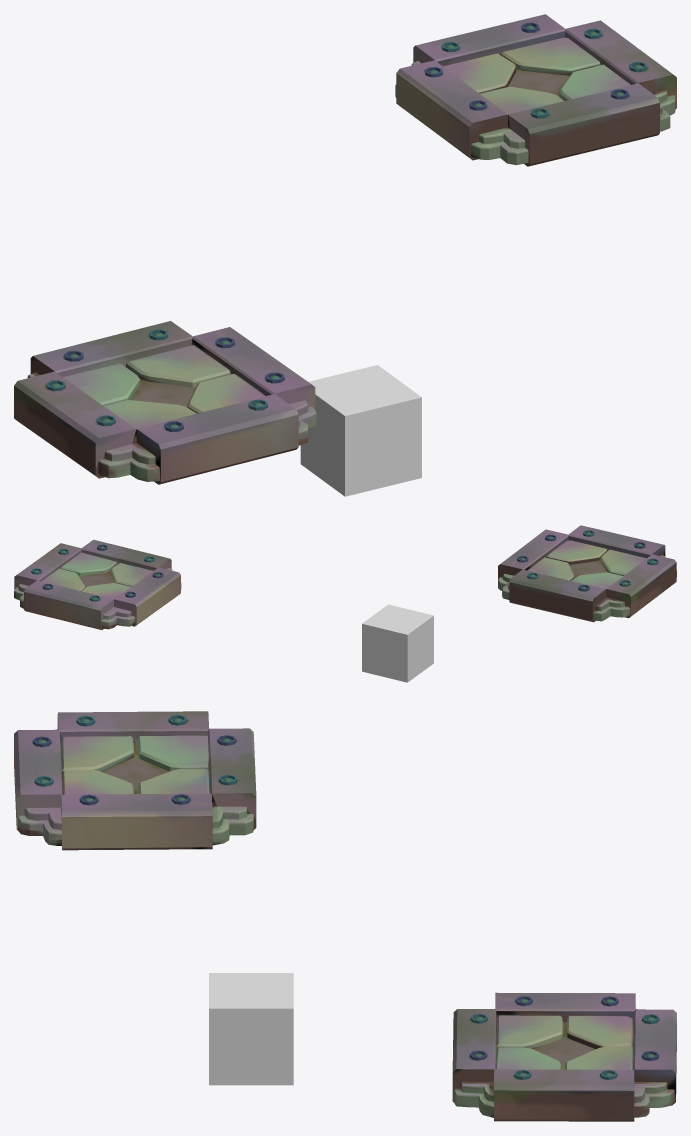
The model's file is battlescence-4-floor006.fbx.
3 views of the same model, one above another, from view 1: azimuth 30°, elevation 25°; view 2: azimuth 150°, elevation 25°; view 3: azimuth 270°, elevation 25° (orthographic). The views are drawn at different scales.
Parts seen in each view (by area): view 1: Circle.006, Circle.005, battlescence-4-floor006; view 2: Circle.006, Circle.005, battlescence-4-floor006; view 3: Circle.006, Circle.005, battlescence-4-floor006.
Part boxes in pixels (box(x1,y1,x2,y2)): Circle.006: box(14, 321, 316, 484); Circle.005: box(395, 14, 676, 166); battlescence-4-floor006: box(300, 365, 421, 496); Circle.006: box(498, 525, 676, 622); Circle.005: box(14, 539, 181, 629); battlescence-4-floor006: box(362, 604, 433, 682); Circle.006: box(14, 711, 256, 850); Circle.005: box(452, 992, 676, 1121); battlescence-4-floor006: box(209, 973, 293, 1085).
Bounding box in the file's own units: 1308 × 306 × 971.
